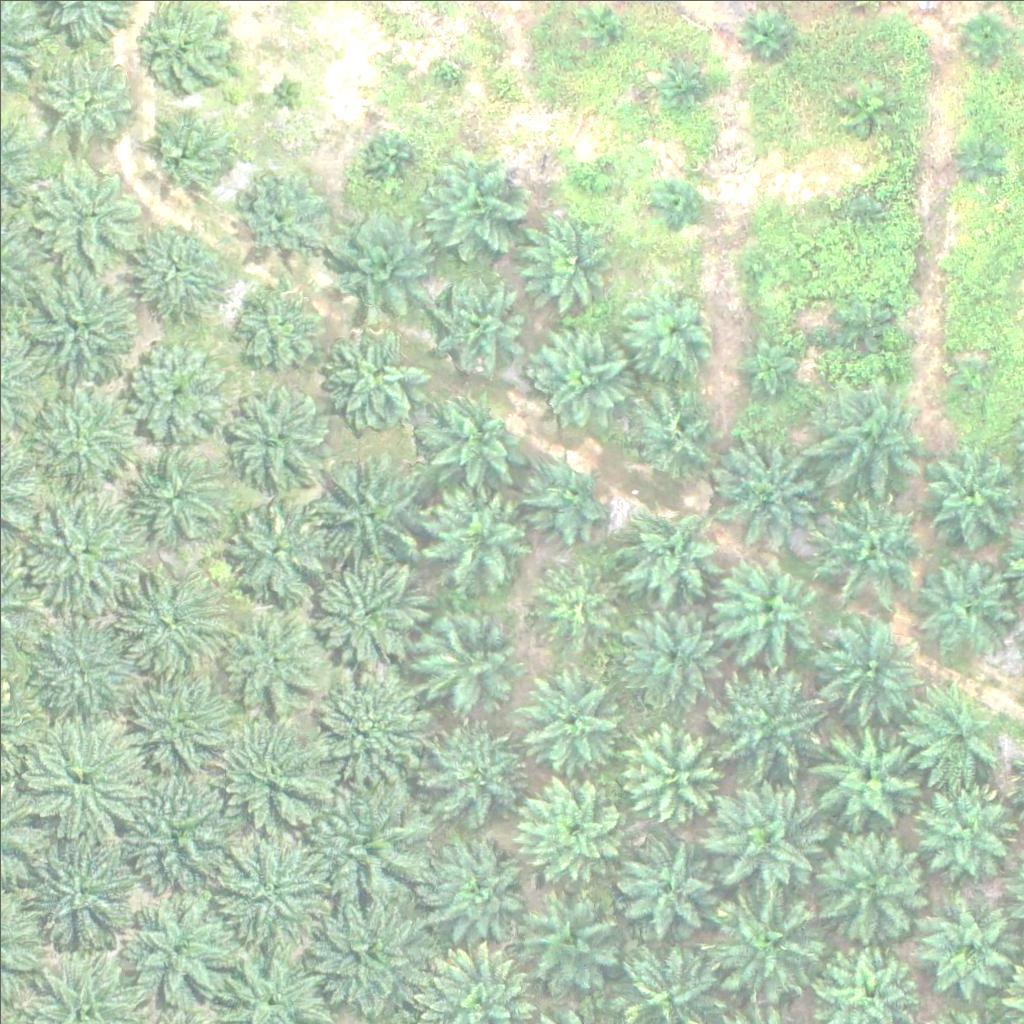Kelapa_Sawit: (701, 769, 826, 895), (416, 828, 541, 954), (299, 887, 424, 1013), (299, 776, 424, 902), (15, 816, 140, 942), (302, 667, 427, 793), (211, 702, 336, 828), (18, 263, 143, 389), (21, 370, 146, 496), (21, 492, 146, 618), (19, 712, 144, 838), (204, 825, 329, 950), (307, 551, 432, 676), (30, 600, 143, 714), (812, 827, 925, 940), (710, 431, 823, 544), (712, 661, 825, 774), (119, 894, 232, 1007), (310, 452, 423, 565), (319, 203, 432, 316), (711, 884, 823, 998), (514, 766, 626, 880), (812, 487, 924, 600), (816, 379, 928, 492), (31, 153, 143, 266), (915, 889, 1015, 990), (425, 391, 525, 492), (530, 322, 630, 423), (619, 598, 719, 699), (619, 504, 719, 605), (626, 385, 726, 486), (718, 558, 818, 659), (814, 722, 914, 823), (821, 625, 921, 726), (920, 442, 1020, 543), (913, 554, 1013, 655), (904, 689, 1004, 790), (917, 777, 1017, 878), (324, 324, 424, 425), (227, 376, 327, 477), (229, 497, 329, 598), (224, 609, 324, 710), (116, 567, 216, 668), (123, 338, 223, 439), (127, 213, 227, 314), (41, 59, 141, 160), (138, 104, 238, 205), (425, 150, 525, 251), (612, 842, 712, 942), (522, 888, 622, 988), (425, 716, 525, 816), (417, 608, 517, 708), (429, 482, 529, 582), (518, 666, 618, 766), (621, 721, 721, 821), (135, 675, 235, 775), (522, 211, 622, 311), (126, 788, 225, 888), (522, 450, 610, 538), (529, 558, 617, 646), (435, 280, 523, 368), (132, 446, 220, 534), (625, 282, 712, 371), (236, 171, 323, 260), (237, 279, 324, 367), (734, 340, 796, 403), (842, 83, 892, 134), (745, 3, 795, 54), (367, 132, 417, 183), (949, 137, 999, 188), (946, 354, 996, 404), (835, 295, 885, 345), (661, 59, 711, 109), (648, 182, 698, 232), (570, 159, 608, 197), (579, 8, 617, 46), (427, 52, 465, 90), (265, 71, 303, 109), (964, 20, 1002, 57), (842, 192, 879, 230), (737, 247, 774, 285)
